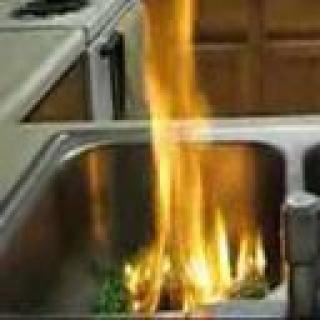fire: (124, 0, 262, 309)
